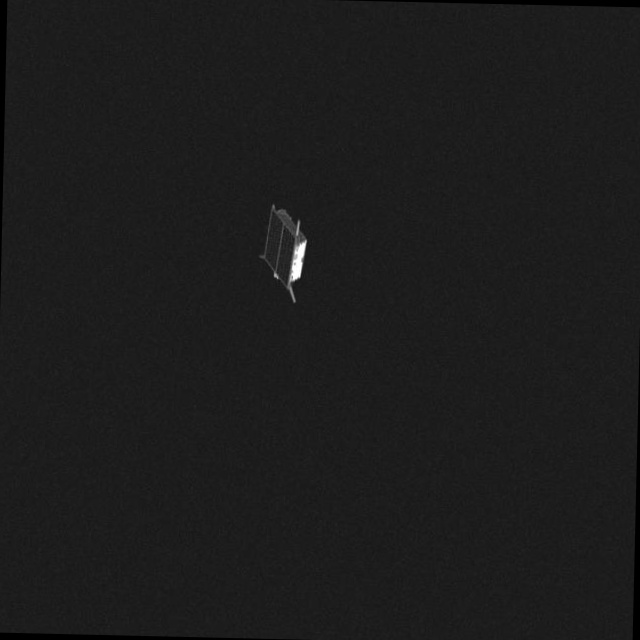medium_debris: (250, 200, 315, 300)
